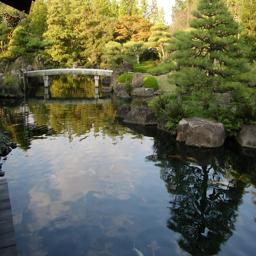Sparrow: (0, 10, 25, 37)
